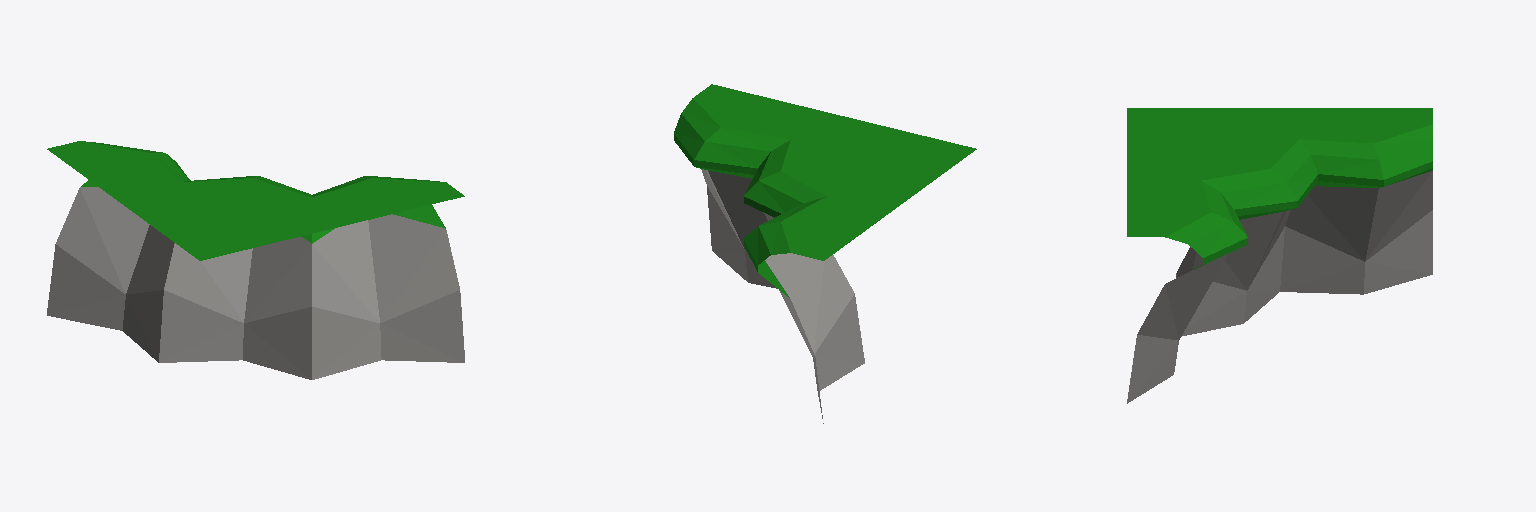
The model's file is Cliff_Terrain_Corner_Inner_2x2_Top.obj.
3 renders of one model, left to right at view 1: azimuth 30°, elevation 25°; view 2: azimuth 150°, elevation 25°; view 3: azimuth 270°, elevation 25°, orthographic.
Parts seen in each view (by area): view 1: object1; view 2: object1; view 3: object1.
Boxes of the visible parts, x1,y1,x2,y2 form: object1: [47, 141, 464, 379]; object1: [674, 84, 976, 423]; object1: [1127, 108, 1432, 403].
Size of the model in its own units: 2 by 1.2 by 2.